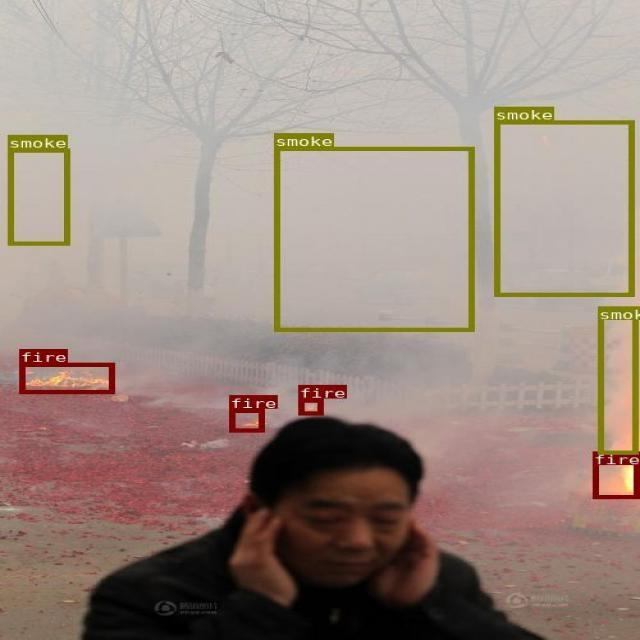fire: (19, 362, 114, 393), (593, 451, 638, 498), (228, 409, 263, 432), (298, 398, 322, 414)
smoke: (273, 147, 473, 331), (494, 120, 633, 296), (597, 306, 637, 454), (8, 148, 69, 245)
